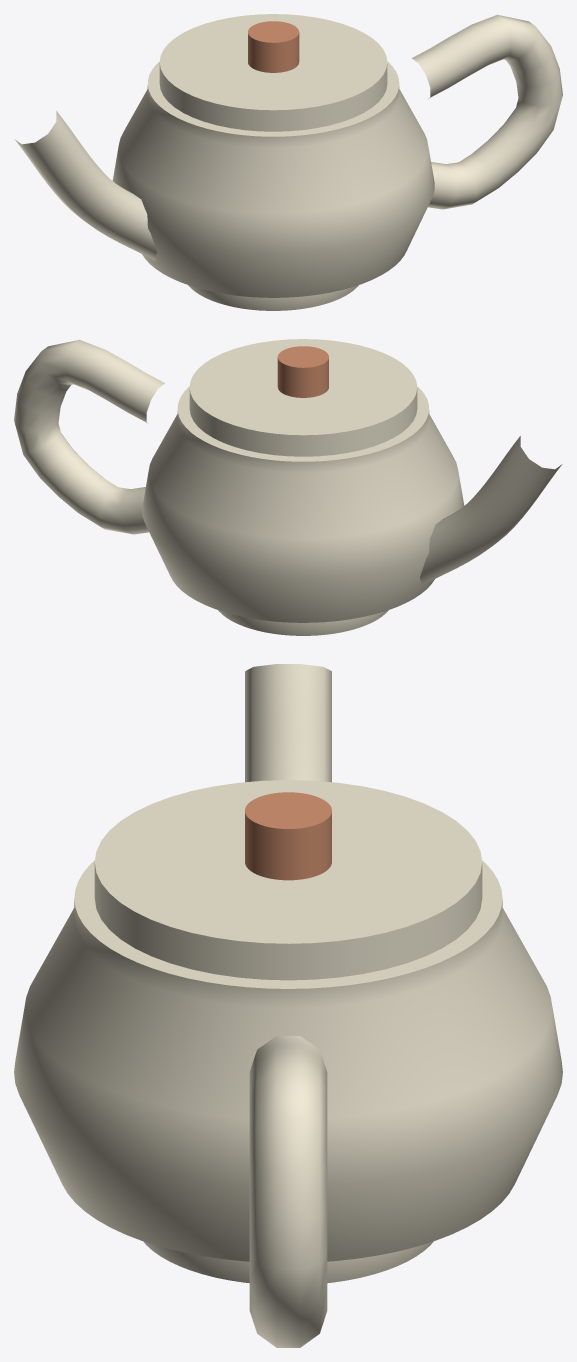
File: ceramics-pottery-studio-lidded-teapot-84ca5c9a__29516.glb
The picture shows the model from 3 angles, top to bottom: view 1: azimuth 30°, elevation 25°; view 2: azimuth 150°, elevation 25°; view 3: azimuth 270°, elevation 25°; orthographic projection. The views are drawn at different scales.
Visible parts, largest first — view 1: lidded-teapot; view 2: lidded-teapot; view 3: lidded-teapot.
Boxes of the visible parts, x1=… form: lidded-teapot: x1=14, y1=14, x2=562, y2=310; lidded-teapot: x1=14, y1=339, x2=562, y2=635; lidded-teapot: x1=14, y1=664, x2=562, y2=1347.
Size of the model in its own units: 0.659 by 0.28 by 0.34.
